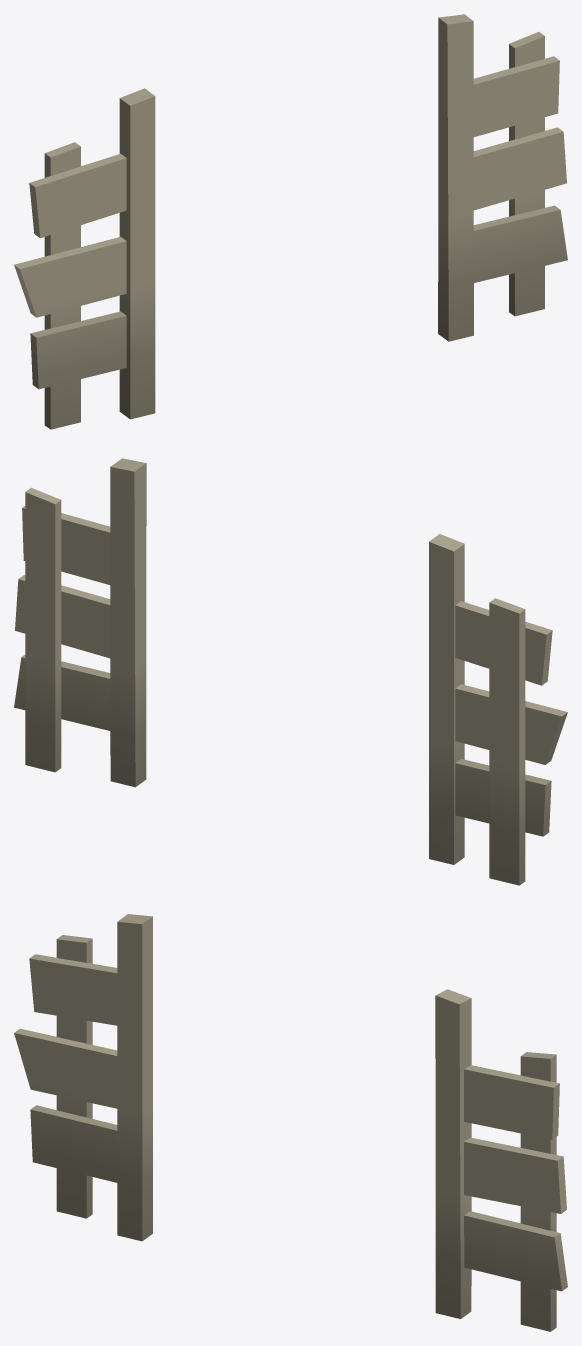
The model's file is Fence Wood V4 Entry.glb.
The picture shows the model from 3 angles, top to bottom: view 1: azimuth 30°, elevation 25°; view 2: azimuth 150°, elevation 25°; view 3: azimuth 330°, elevation 25°; orthographic projection.
Parts seen in each view (by area): view 1: Fence Wood V4 Entry; view 2: Fence Wood V4 Entry; view 3: Fence Wood V4 Entry.
Boxes of the visible parts, box(x1,y1,x2,y2) form: Fence Wood V4 Entry: box(14, 14, 567, 429); Fence Wood V4 Entry: box(14, 458, 567, 885); Fence Wood V4 Entry: box(14, 914, 567, 1331).
Size of what is drawn, in the model's own units: 2.94 by 1.63 by 0.1478.
Materials: 1 (1 with a texture image).
